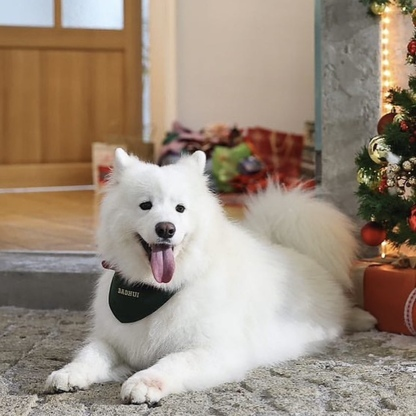samoyed: (37, 142, 384, 408)
